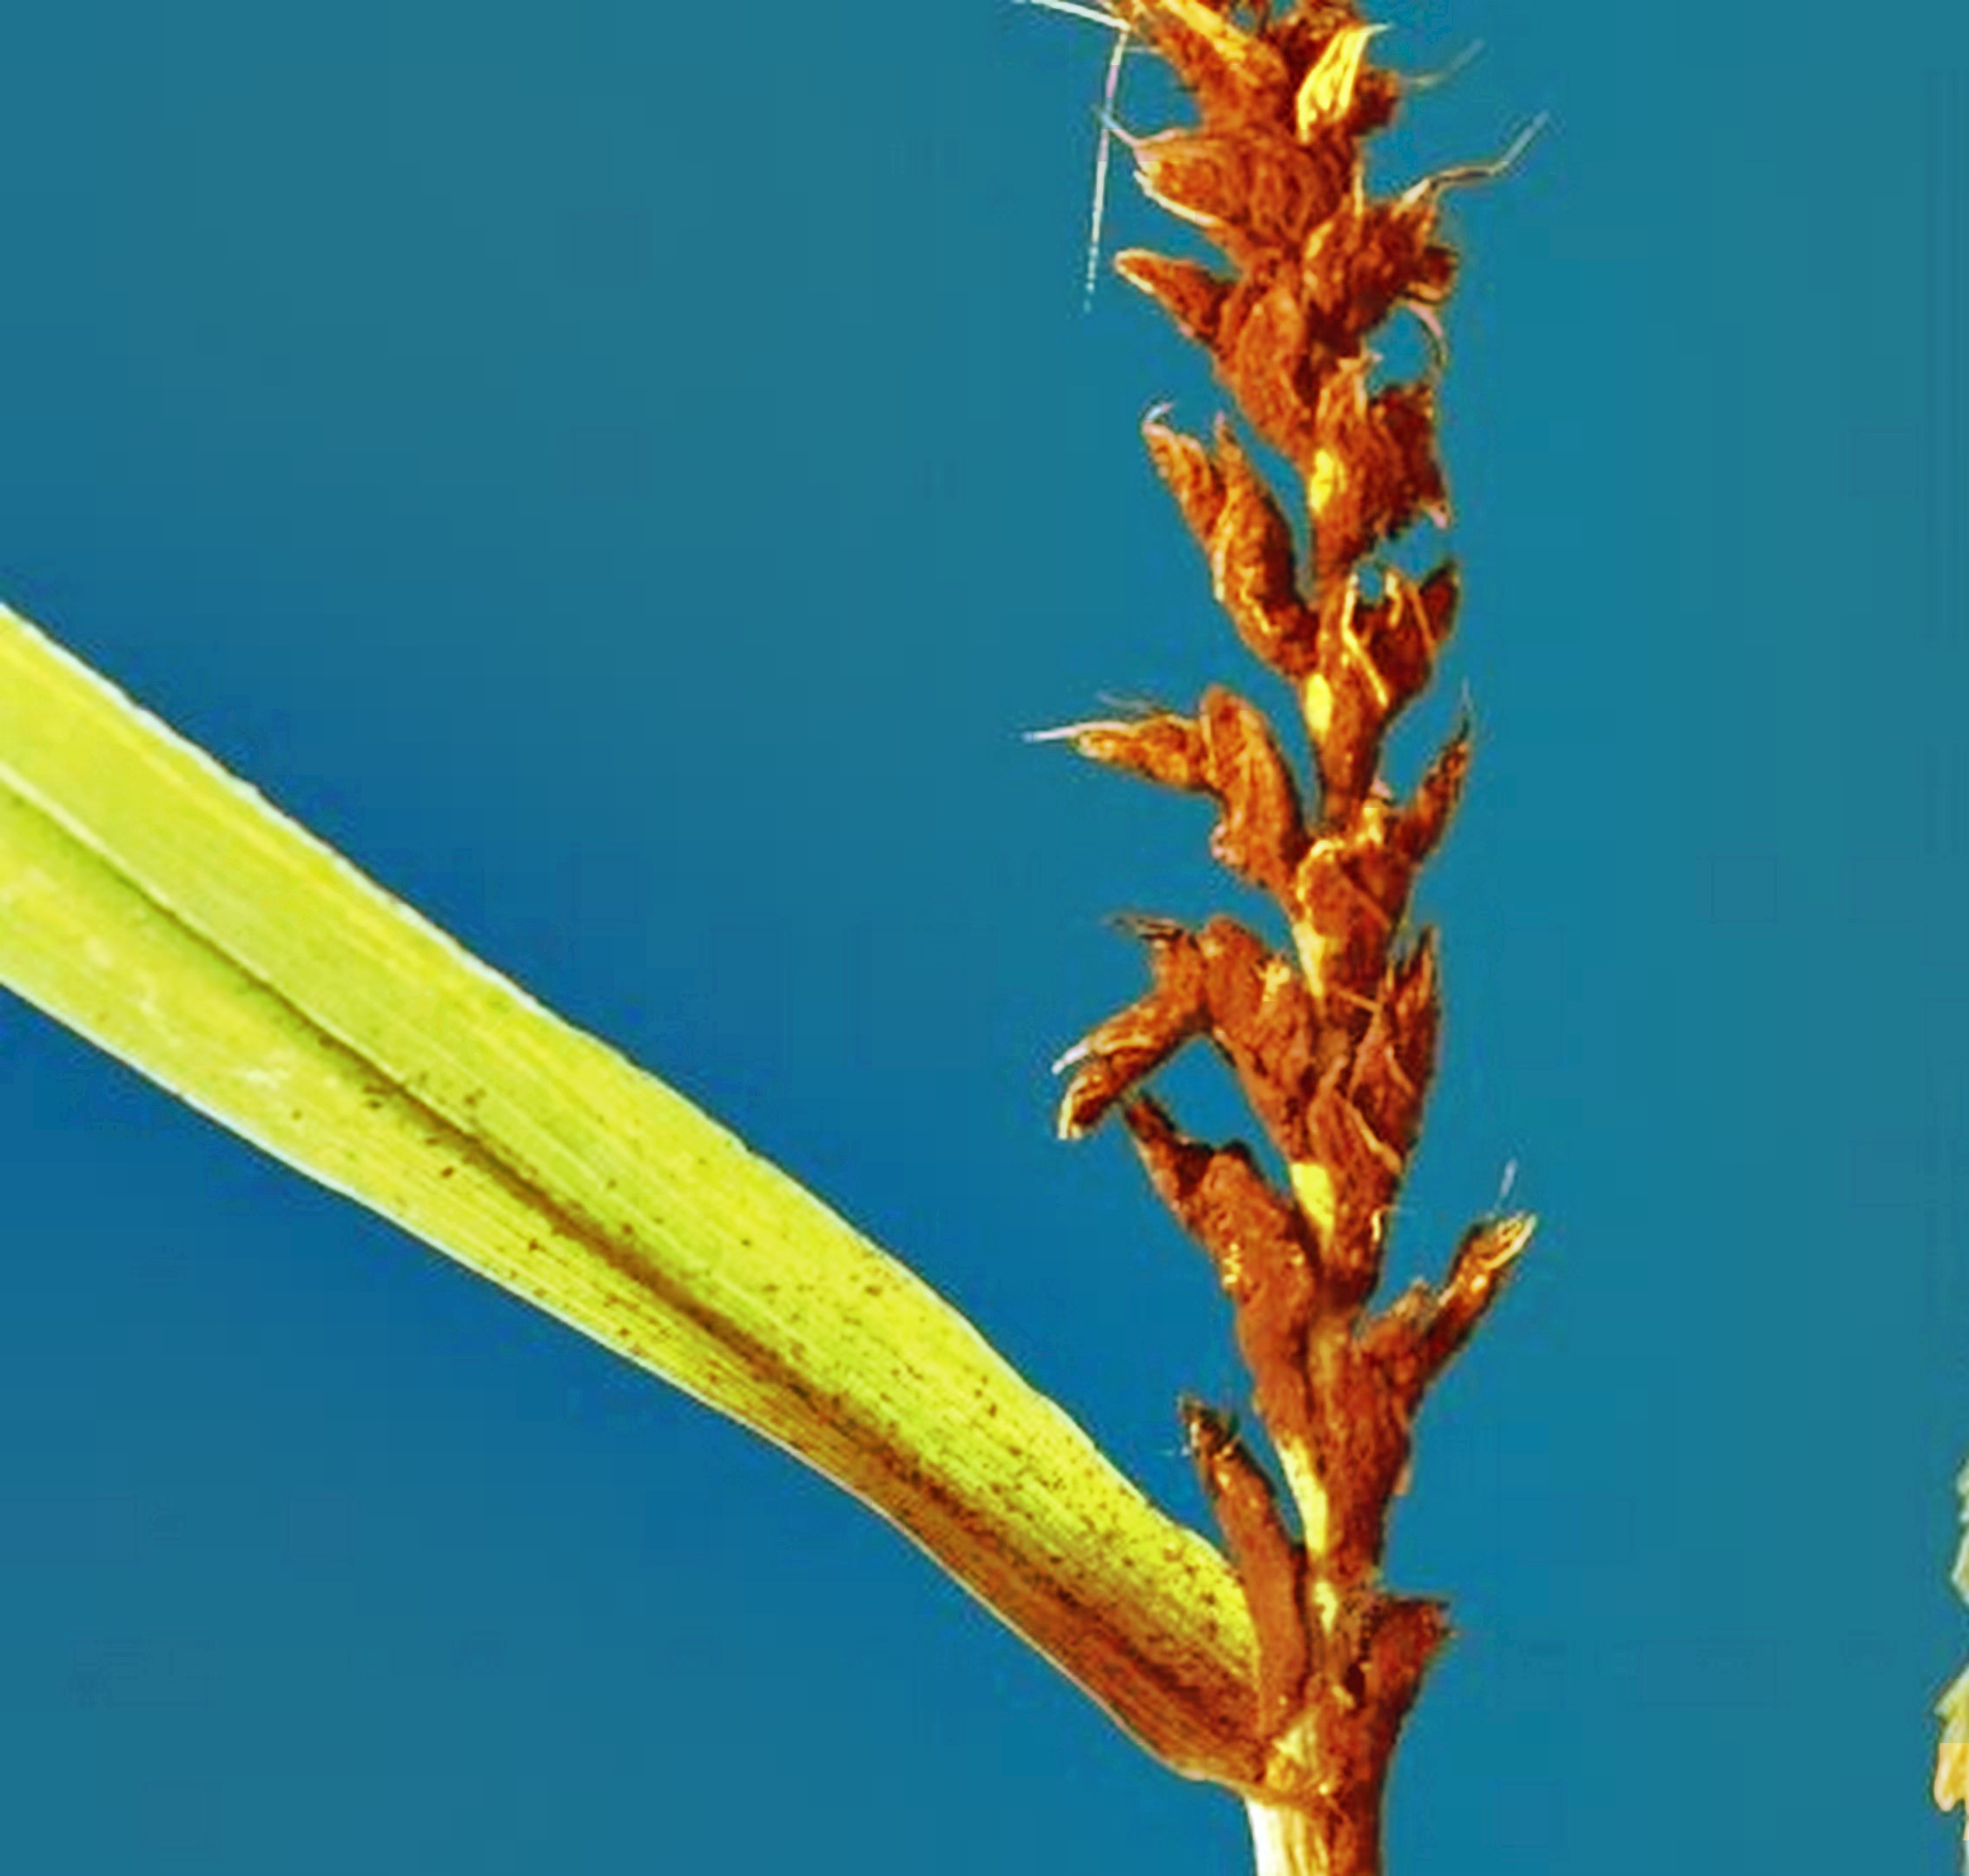Wheat Loose Smut: (1048, 26, 1551, 1728)
